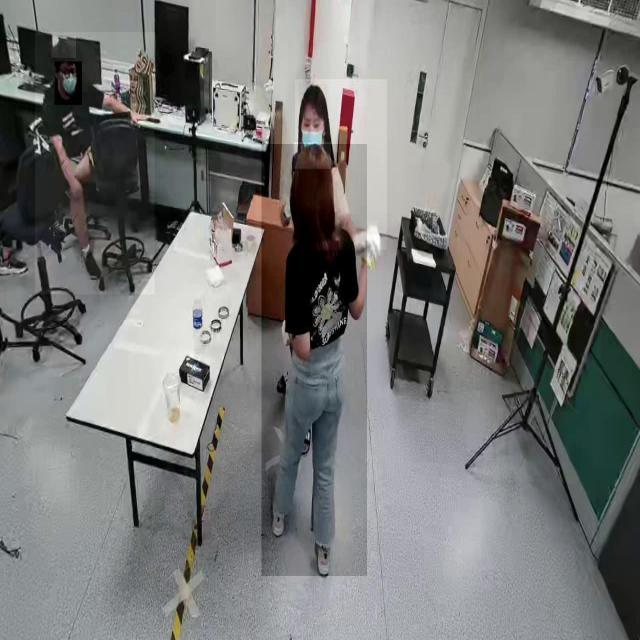face_mask: (297, 111, 327, 155), (54, 61, 82, 106)
hand_noglove: (128, 104, 146, 123), (69, 180, 83, 199)
head_nohelmet: (294, 142, 332, 170), (299, 84, 327, 110), (52, 36, 76, 58)
person: (262, 144, 368, 577), (35, 32, 155, 295), (295, 79, 387, 251)
shoes: (310, 519, 334, 581), (266, 481, 290, 542), (0, 245, 32, 282), (78, 241, 105, 283)
